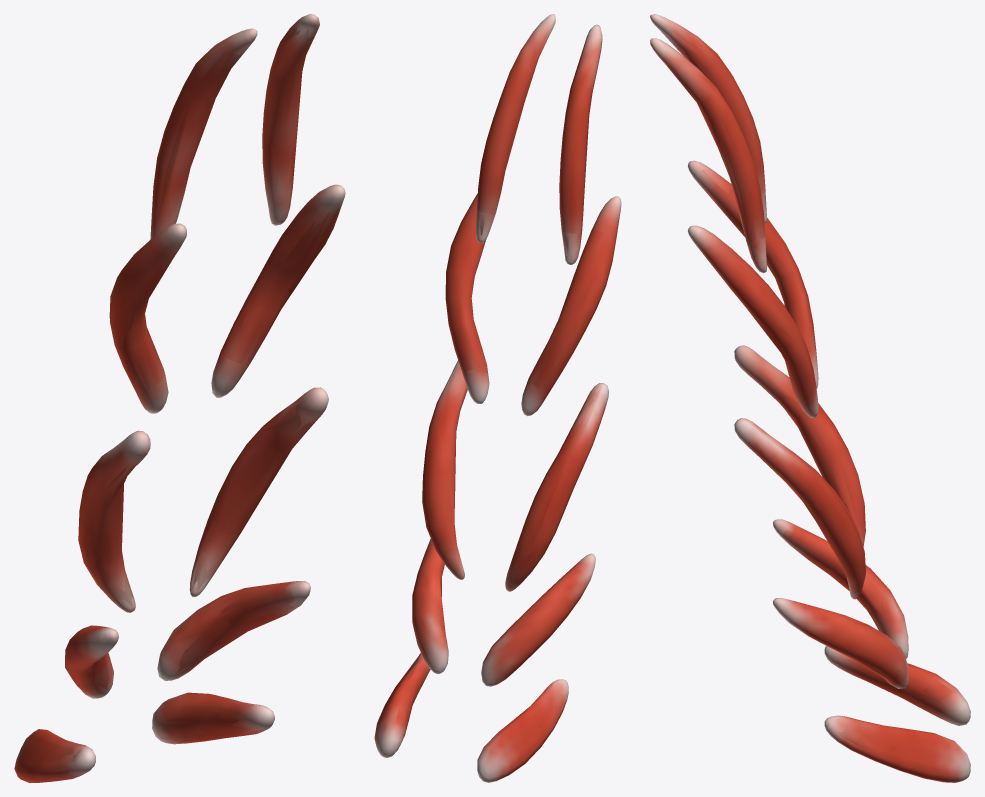
The model's file is Intertransverarii Intermesialis.fbx.
3 renders of one model, left to right at view 1: azimuth 30°, elevation 25°; view 2: azimuth 150°, elevation 25°; view 3: azimuth 270°, elevation 25°, orthographic. The views are drawn at different scales.
Parts seen in each view (by area): view 1: Intertransverarii Intermesialis, Intertransverarii Intermesialis low; view 2: Intertransverarii Intermesialis, Intertransverarii Intermesialis low; view 3: Intertransverarii Intermesialis, Intertransverarii Intermesialis low.
Boxes of the visible parts, x1,y1,x2,y2 form: Intertransverarii Intermesialis: (14, 14, 345, 782); Intertransverarii Intermesialis low: (16, 27, 341, 776); Intertransverarii Intermesialis: (374, 14, 621, 782); Intertransverarii Intermesialis low: (380, 26, 612, 782); Intertransverarii Intermesialis: (650, 14, 970, 782); Intertransverarii Intermesialis low: (650, 21, 970, 781).
Size of the model in its own units: 11.23 by 43.9 by 17.56.
1 material, 1 textured.
